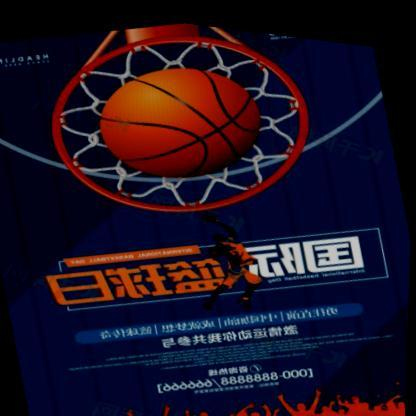basketball: (86, 38, 272, 199)
